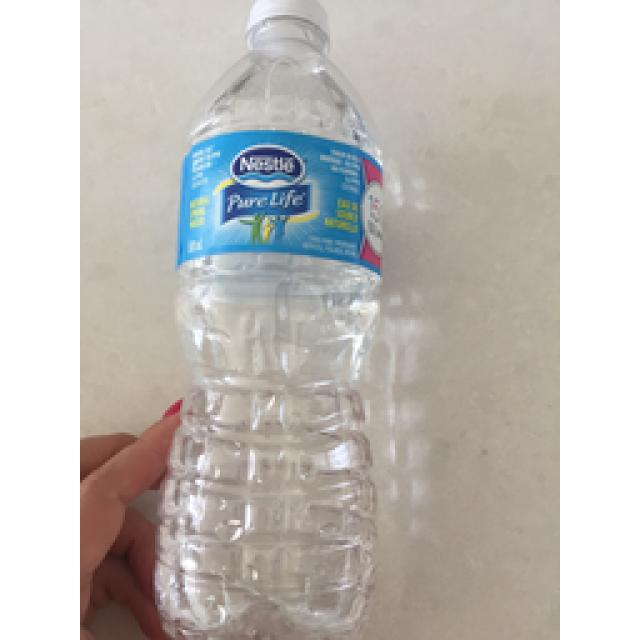plastic_water_bottles: (153, 2, 395, 640)
